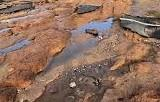pothole: (29, 14, 115, 84), (113, 28, 160, 79), (0, 37, 36, 55), (0, 6, 38, 21)
